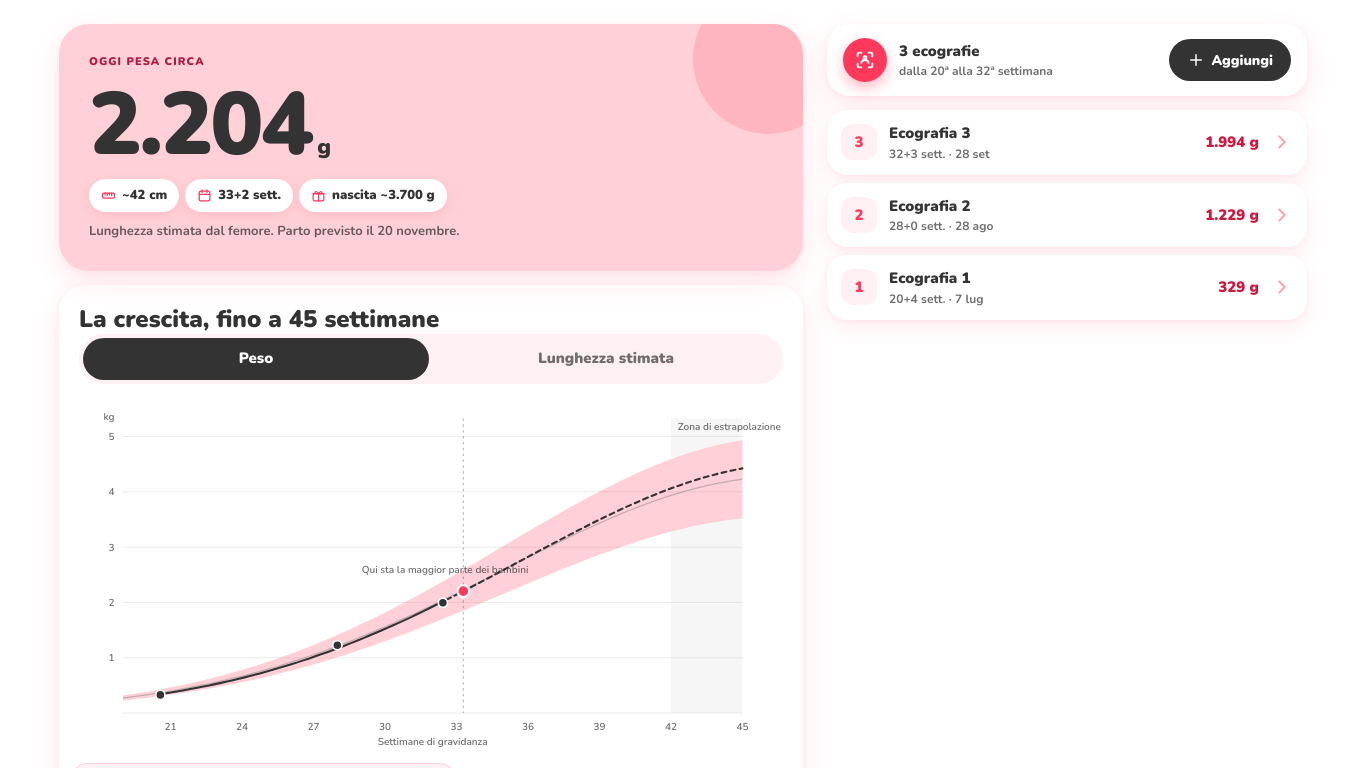
Il tuo bebe › Crescita: le ecografie sono chiuse e si aprono al tocco
expect the text "BPD" is not shown: met
Click the button "3 Ecografia 3 32+3 sett. · 28 set 1.994 g".
click(859, 142)  # box [827,110,1307,174]
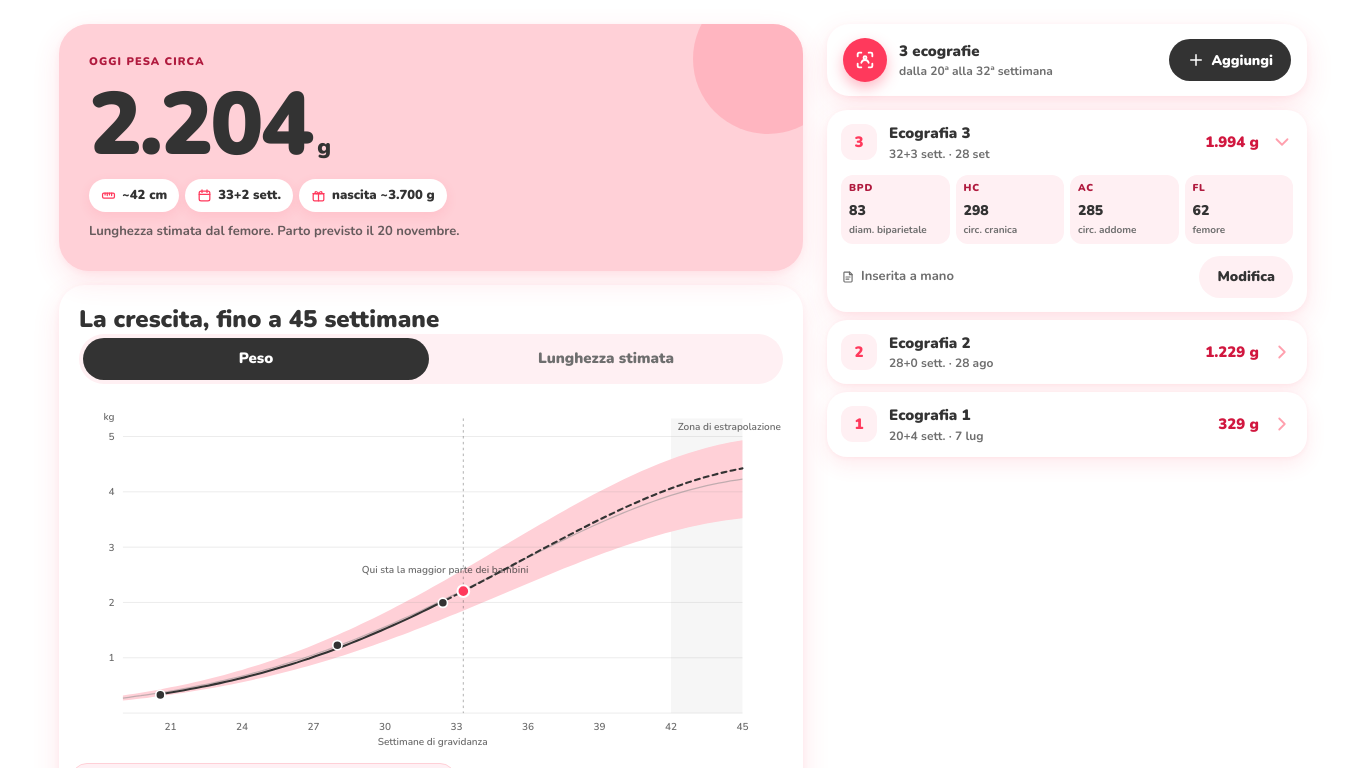
expect the button "3 Ecografia 3 32+3 sett. · 28 set 1.994 g" is expanded: met, box [827,110,1307,174]
expect the text "BPD" is shown: met, box [849,180,873,194]
